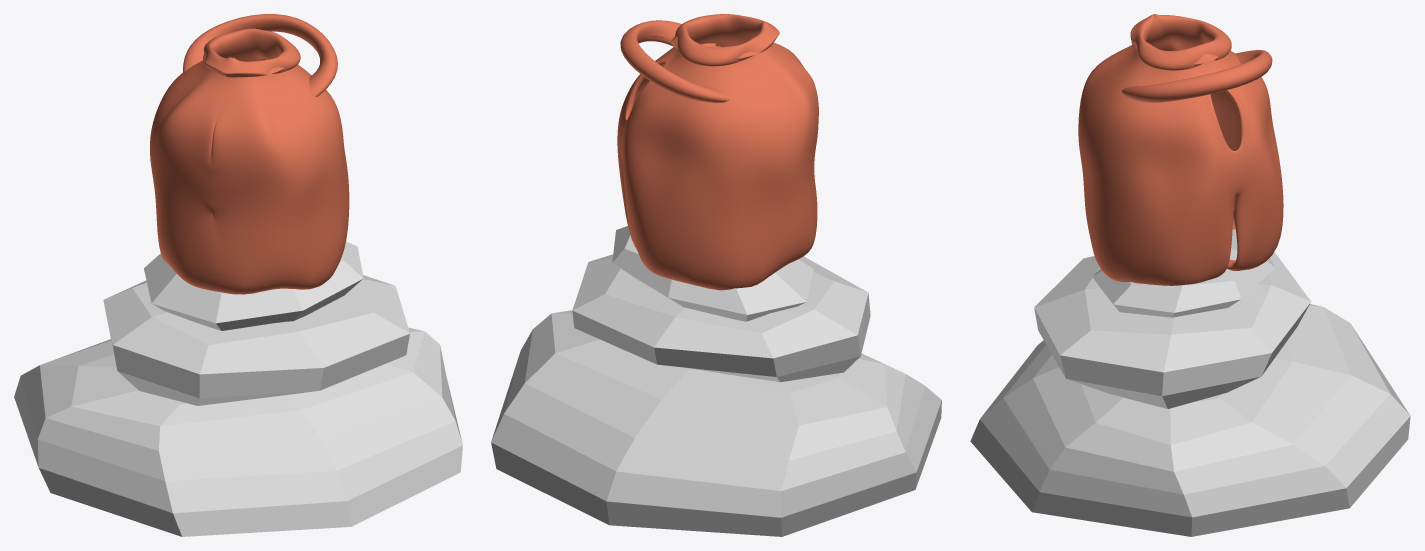
Rendered from Store-G2.fbx.
3 views of the same model, side by side, from view 1: azimuth 30°, elevation 25°; view 2: azimuth 150°, elevation 25°; view 3: azimuth 270°, elevation 25° (orthographic).
Visible parts, largest first — view 1: Base-Stand, Wine Bottle.005; view 2: Base-Stand, Wine Bottle.005; view 3: Base-Stand, Wine Bottle.005.
Part boxes in pixels (x1,y1,x2,y2): Base-Stand: (14, 241, 462, 536); Wine Bottle.005: (150, 14, 349, 294); Base-Stand: (491, 226, 941, 536); Wine Bottle.005: (617, 14, 818, 290); Base-Stand: (970, 229, 1410, 536); Wine Bottle.005: (1078, 14, 1283, 285).
Bounding box in the file's own units: 634 × 599 × 654.
